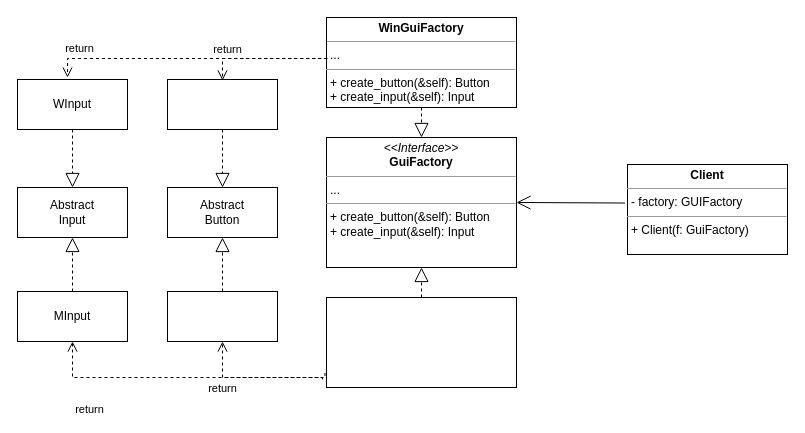
Image size: 805x433. Some labels were removed from this diagram. Here are the shapes that lost their labels. From the top down, the centre of each, then its label:
At point 222,104: "WButton".
At point 222,316: "MButton".
At point 421,342: "MacGuiFactory ... + create_button(&self): Button + create_input(&self): Input".
